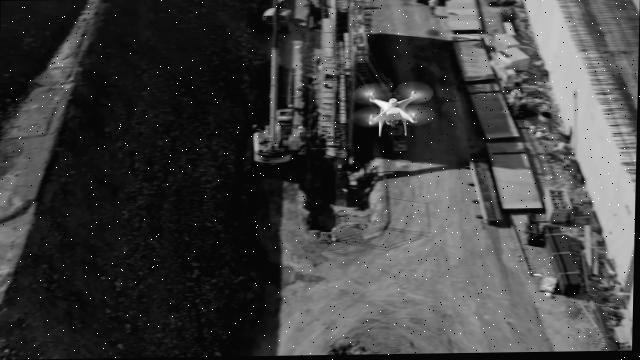drone: (353, 81, 437, 137)
